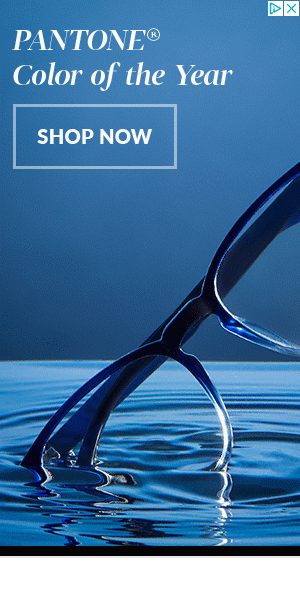fake_button: (5, 94, 190, 177)
